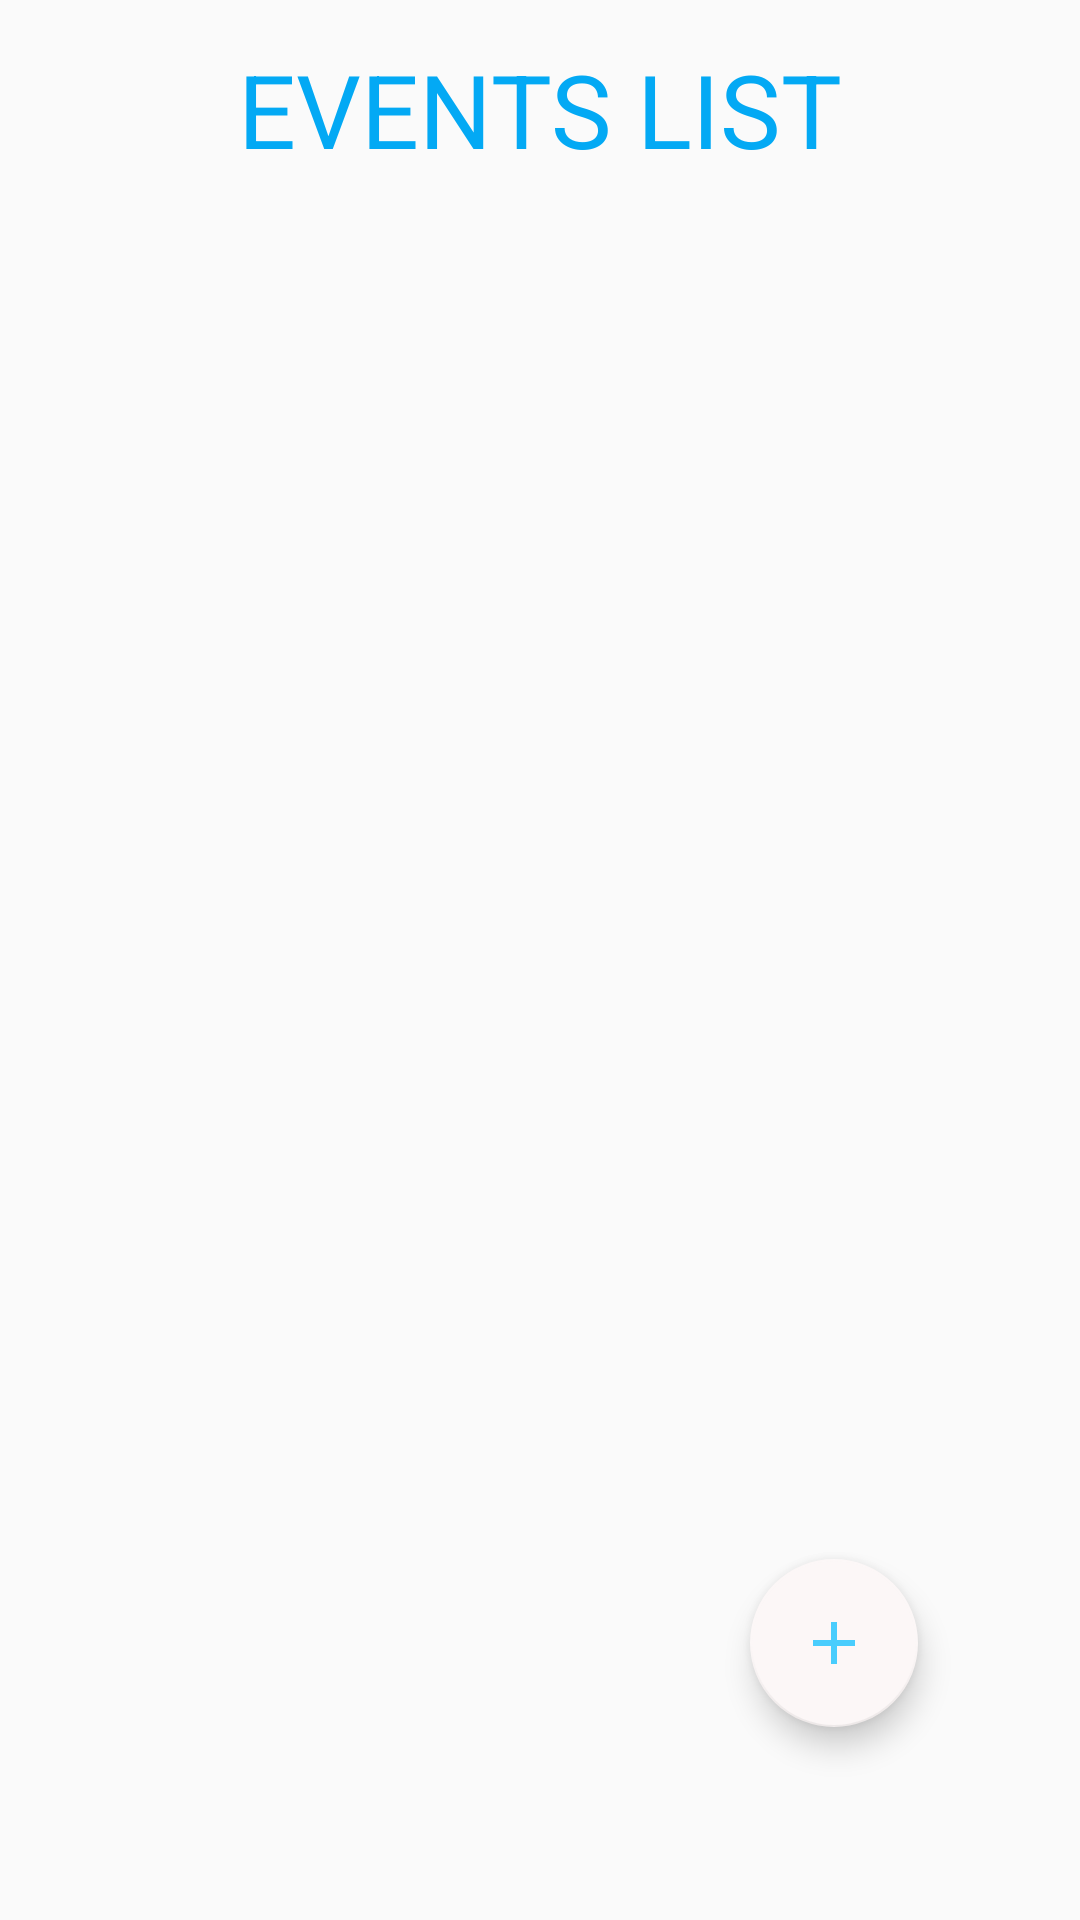

Point at icon controls on the screen. Image size 1080 x 1920, points as [x,y].
add: [835,1674]
